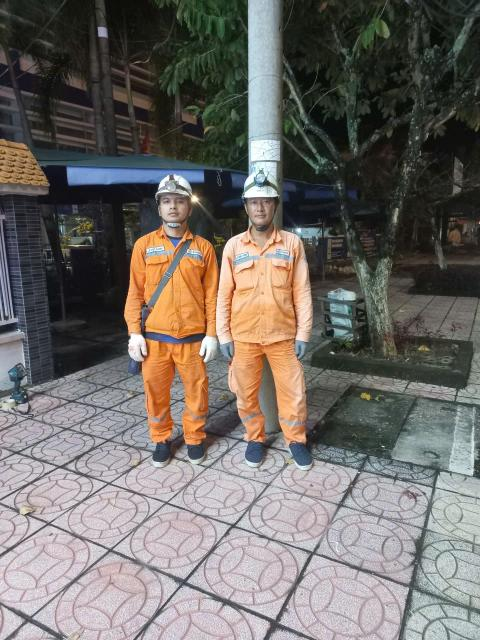gloves: (121, 327, 152, 368), (290, 331, 319, 370), (193, 328, 219, 369), (218, 331, 244, 369)
helmet: (224, 170, 298, 201), (130, 170, 201, 202)
shoes: (140, 425, 178, 471), (279, 430, 318, 470), (182, 425, 213, 468), (241, 437, 273, 473)
